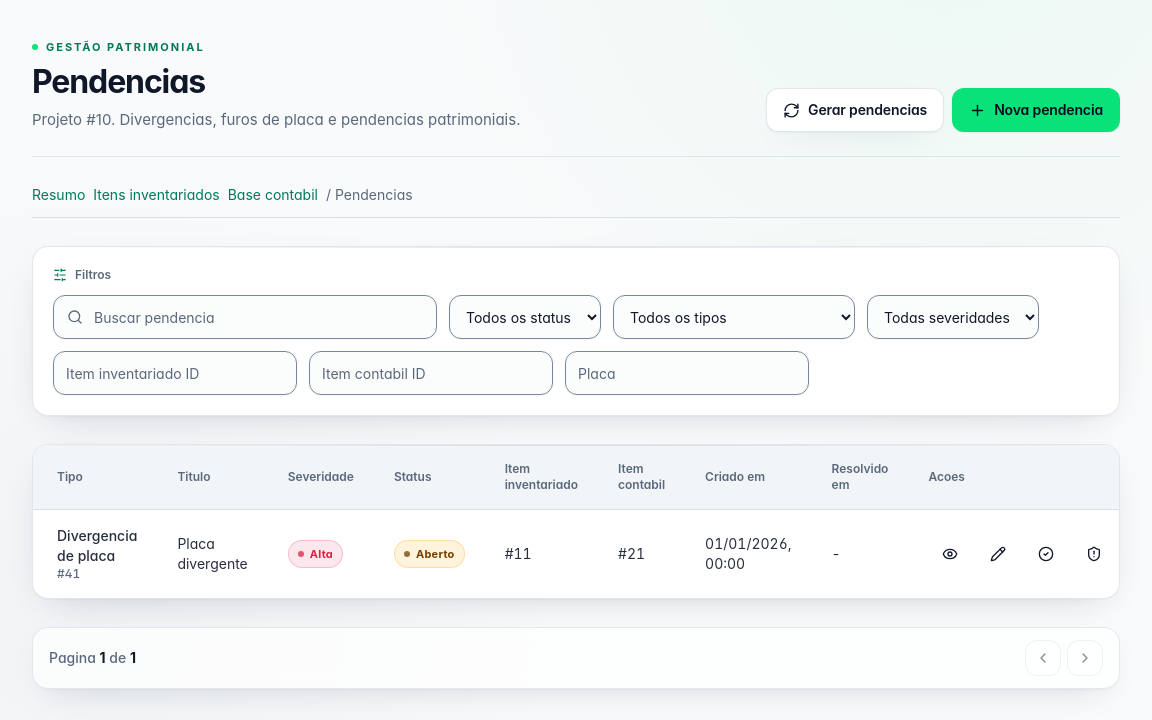
ProjectPendingIssuesPage › formulario de criacao valida campos obrigatorios
Click the button "Nova pendencia" at [1036, 110], box [952,88,1120,132]
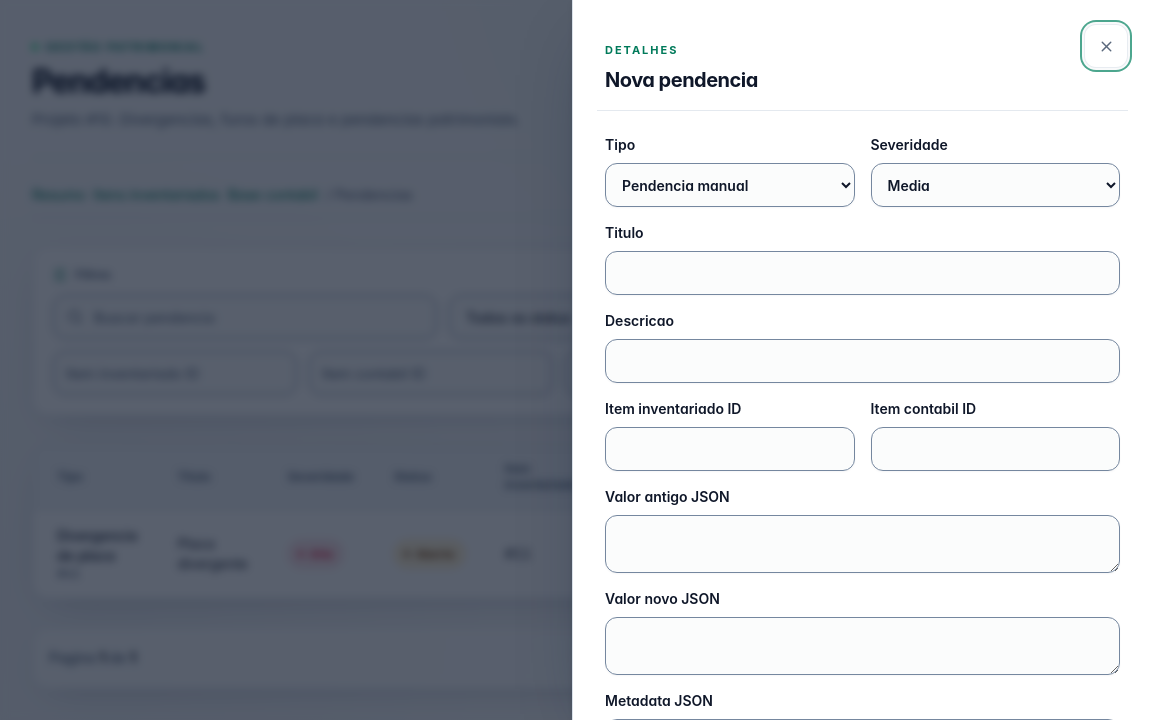
Clear the field labelled "Titulo" at [862, 273], box [605,251,1120,295]
(page scrolled)
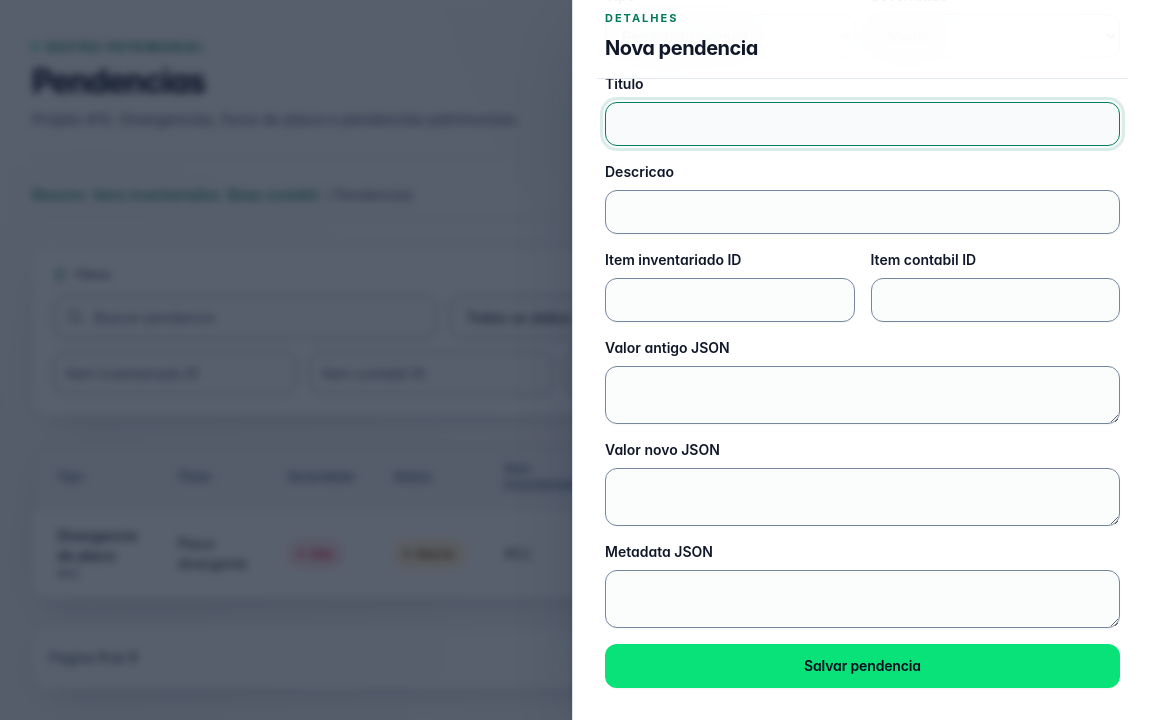
Click the button "Salvar pendencia" at [862, 666], box [605,644,1120,688]
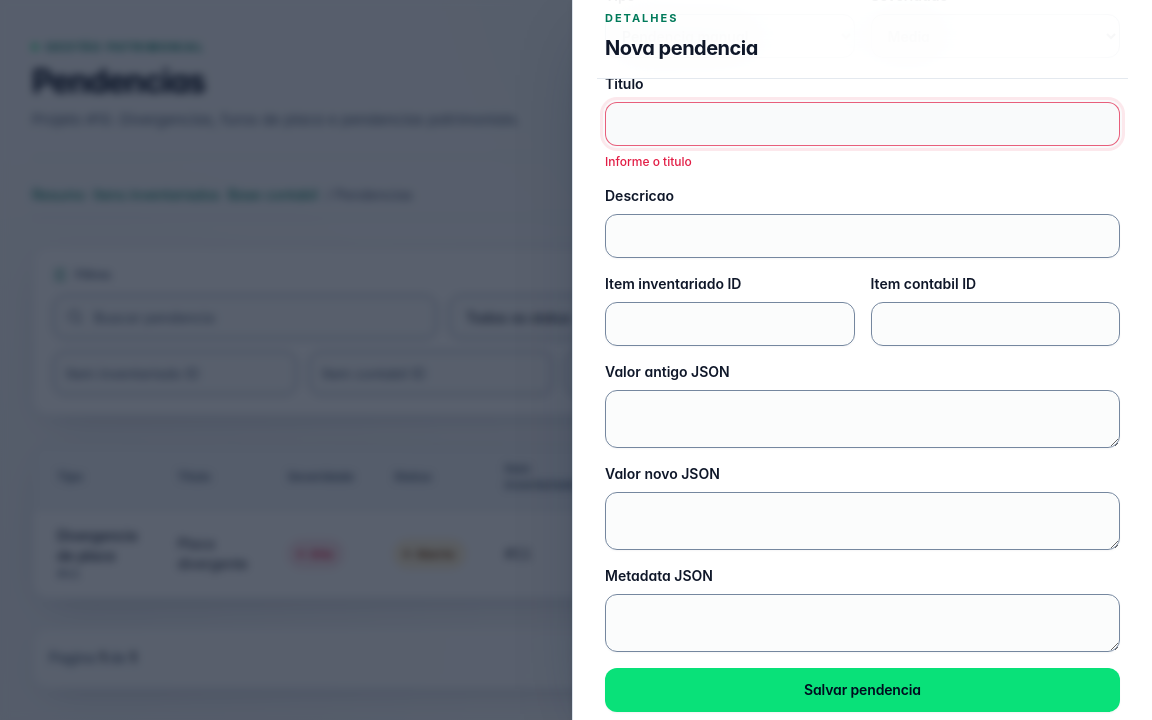
Check: the text "Informe o titulo" is shown, box [605,154,692,169]
